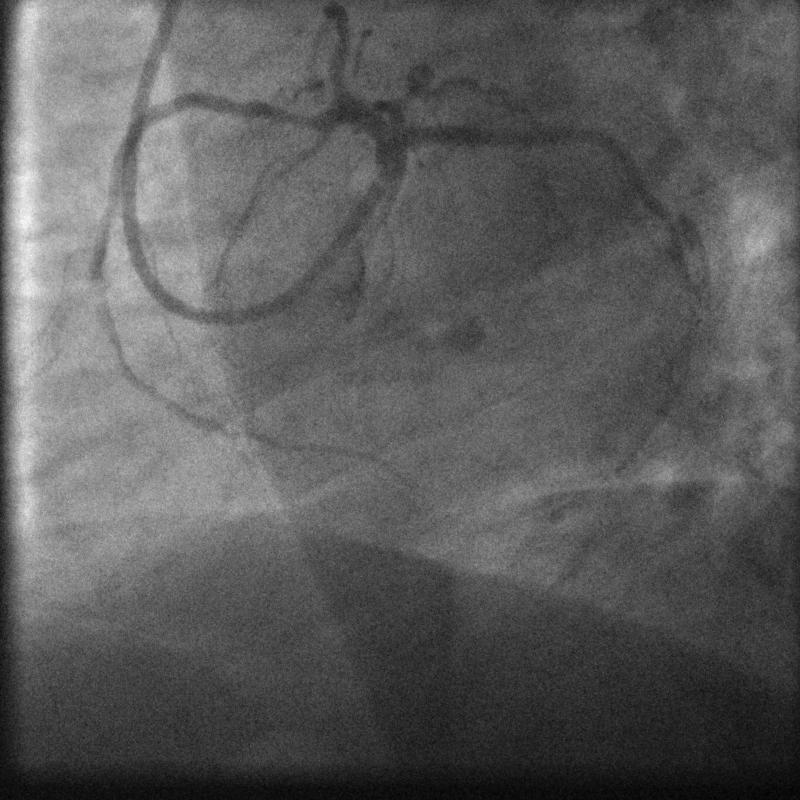Stenosis: (260, 98, 326, 132)
